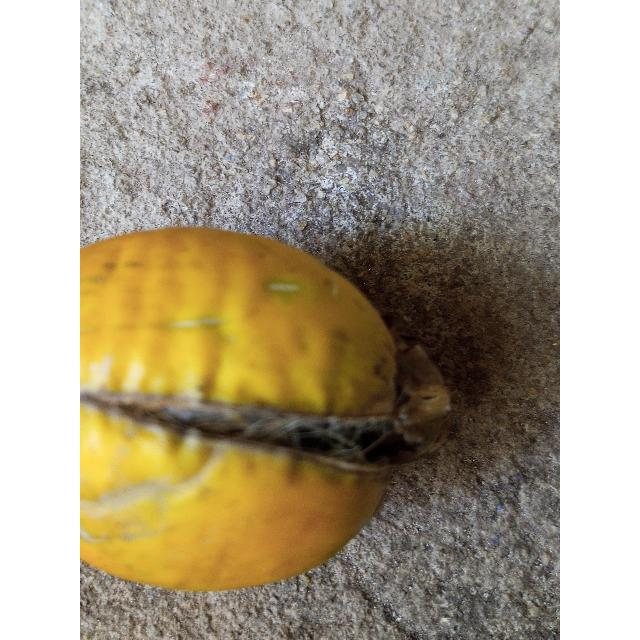damaged: (80, 228, 450, 590)
